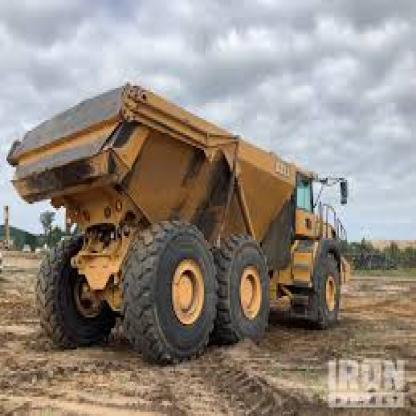dump_truck: (2, 83, 363, 364)
